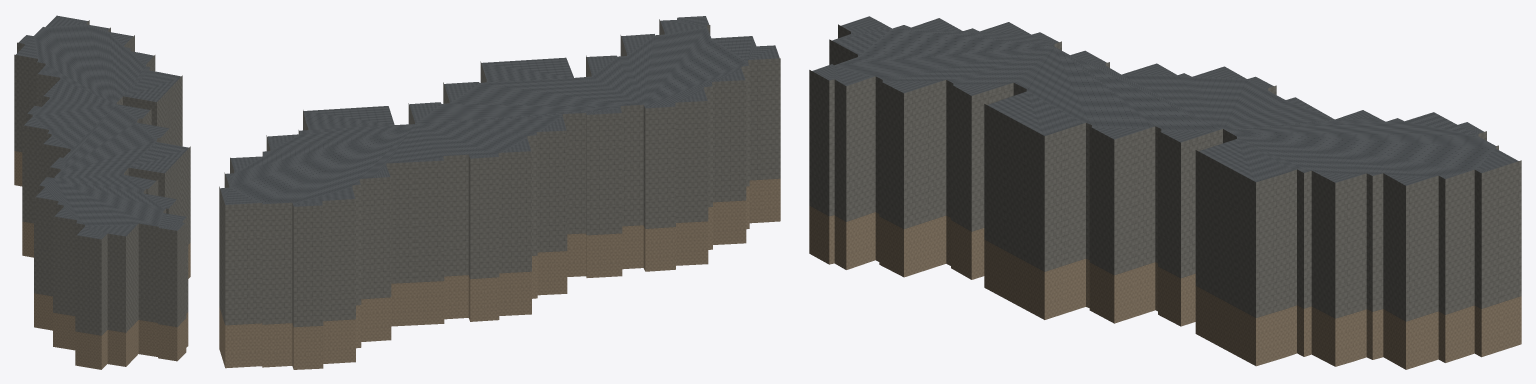
The model's file is core_0079.gltf.
3 renders of one model, left to right at view 1: azimuth 30°, elevation 25°; view 2: azimuth 150°, elevation 25°; view 3: azimuth 270°, elevation 25°, orthographic. The views are drawn at different scales.
Visible parts, largest first — view 1: core_0079; view 2: core_0079; view 3: core_0079.
Part boxes in pixels (<box>): core_0079: <box>14,15,190,369</box>; core_0079: <box>219,16,780,369</box>; core_0079: <box>809,16,1521,369</box>.
Size of the model in its own units: 39.04 by 19.48 by 68.32.
3 materials, 3 textured.
